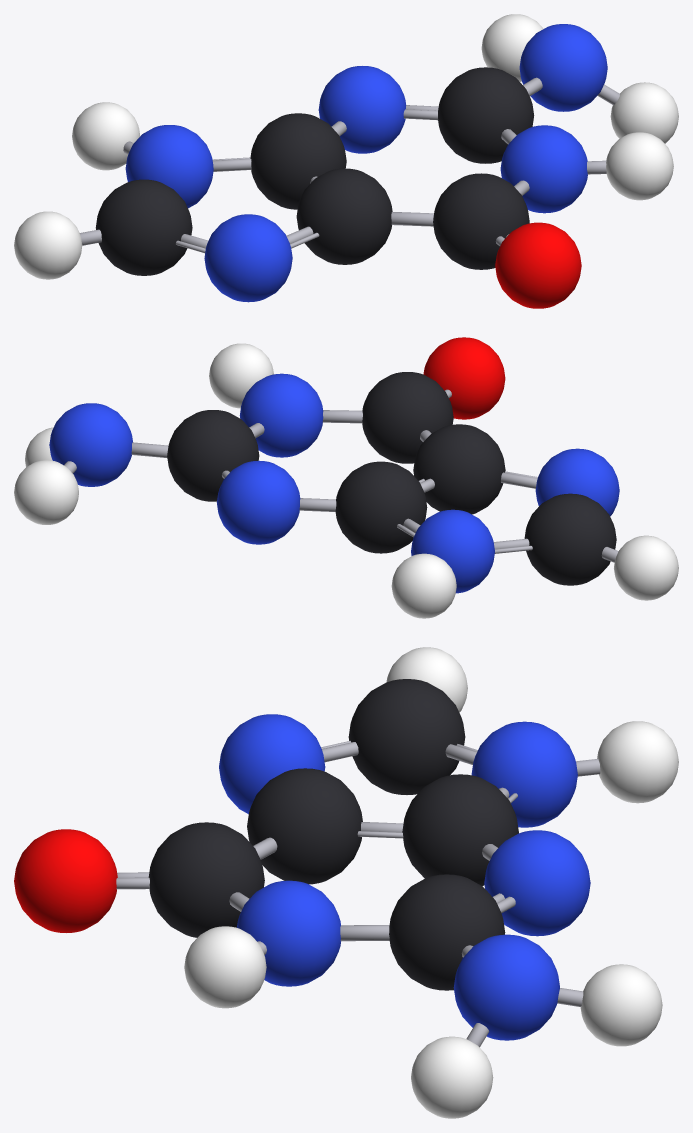
The model's file is guanine.glb.
3 renders of one model, top to bottom at view 1: azimuth 30°, elevation 25°; view 2: azimuth 150°, elevation 25°; view 3: azimuth 270°, elevation 25°, orthographic. The views are drawn at different scales.
Parts seen in each view (by area): view 1: C5, C7, C1, C8, C3, N6, N0, O9, N2, N10, N4, H14 (+6 smaller); view 2: C5, C3, C7, C8, C1, N2, N0, N10, O9, N4, N6, H14 (+7 smaller); view 3: C7, C5, C8, C3, C1, N0, O9, N2, N10, N4, N6, H15 (+5 smaller).
Part boxes in pixels (bbox=[...]): C5: bbox=[95, 179, 192, 275]; C7: bbox=[296, 168, 392, 264]; C1: bbox=[438, 67, 534, 163]; C8: bbox=[433, 173, 529, 269]; C3: bbox=[250, 113, 346, 209]; N6: bbox=[204, 214, 292, 302]; N0: bbox=[519, 24, 607, 111]; O9: bbox=[495, 222, 581, 308]; N2: bbox=[318, 66, 406, 153]; N10: bbox=[500, 125, 587, 213]; N4: bbox=[125, 125, 213, 208]; H14: bbox=[14, 211, 82, 279]; C5: bbox=[524, 493, 616, 585]; C3: bbox=[335, 461, 427, 553]; C7: bbox=[413, 424, 505, 514]; C8: bbox=[362, 372, 453, 463]; C1: bbox=[167, 410, 259, 501]; N2: bbox=[216, 460, 300, 544]; N0: bbox=[49, 403, 132, 486]; N10: bbox=[239, 373, 323, 457]; O9: bbox=[423, 337, 505, 419]; N4: bbox=[411, 509, 494, 593]; N6: bbox=[535, 448, 619, 516]; H14: bbox=[614, 535, 678, 600]; C7: bbox=[247, 768, 362, 884]; C5: bbox=[348, 679, 465, 794]; C8: bbox=[148, 822, 264, 937]; C3: bbox=[402, 774, 518, 885]; C1: bbox=[389, 874, 505, 990]; N0: bbox=[453, 934, 559, 1040]; O9: bbox=[14, 829, 117, 932]; N2: bbox=[484, 830, 590, 936]; N10: bbox=[237, 880, 340, 986]; N4: bbox=[471, 721, 577, 827]; N6: bbox=[219, 714, 325, 813]; H15: bbox=[184, 926, 266, 1008].
Size of the model in its own units: 8.11 by 1.36 by 5.81.
